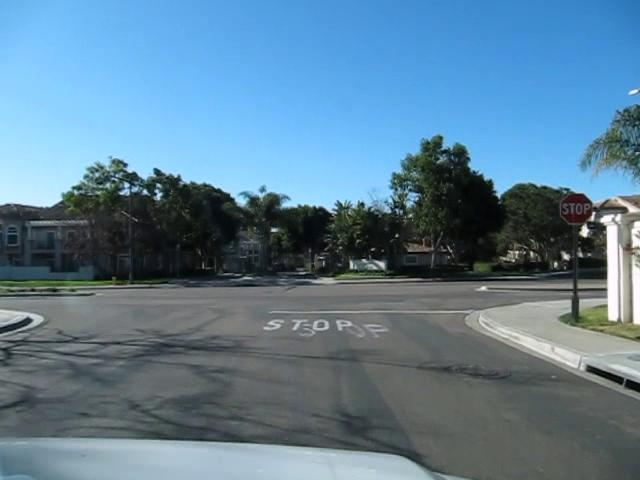stop: (558, 192, 593, 225)
